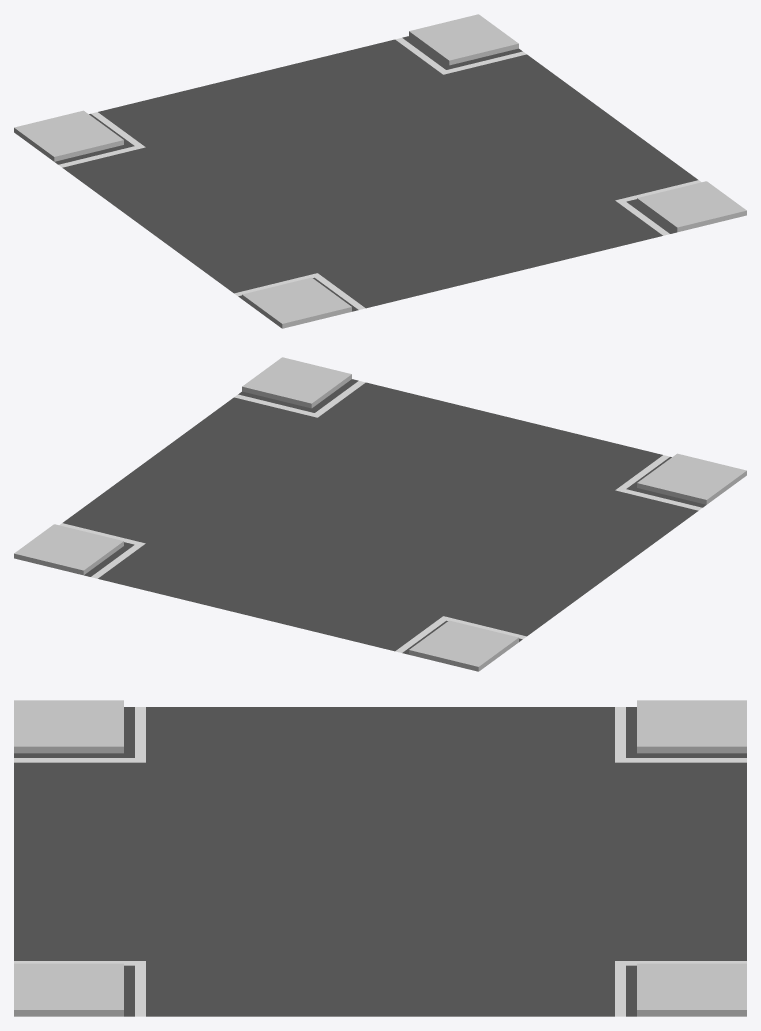
The model's file is road_intersection.glb.
The picture shows the model from 3 angles, top to bottom: view 1: azimuth 30°, elevation 25°; view 2: azimuth 150°, elevation 25°; view 3: azimuth 270°, elevation 25°; orthographic projection. The views are drawn at different scales.
Parts seen in each view (by area): view 1: SPW_Urban_Road 2way_Intersection_02; view 2: SPW_Urban_Road 2way_Intersection_02; view 3: SPW_Urban_Road 2way_Intersection_02.
Part boxes in pixels (box(x1,y1,x2,y2)): SPW_Urban_Road 2way_Intersection_02: box(14, 14, 746, 328); SPW_Urban_Road 2way_Intersection_02: box(14, 357, 746, 671); SPW_Urban_Road 2way_Intersection_02: box(14, 700, 746, 1016).
Size of the model in its own units: 20 by 0.2 by 20.
1 material, 1 textured.
